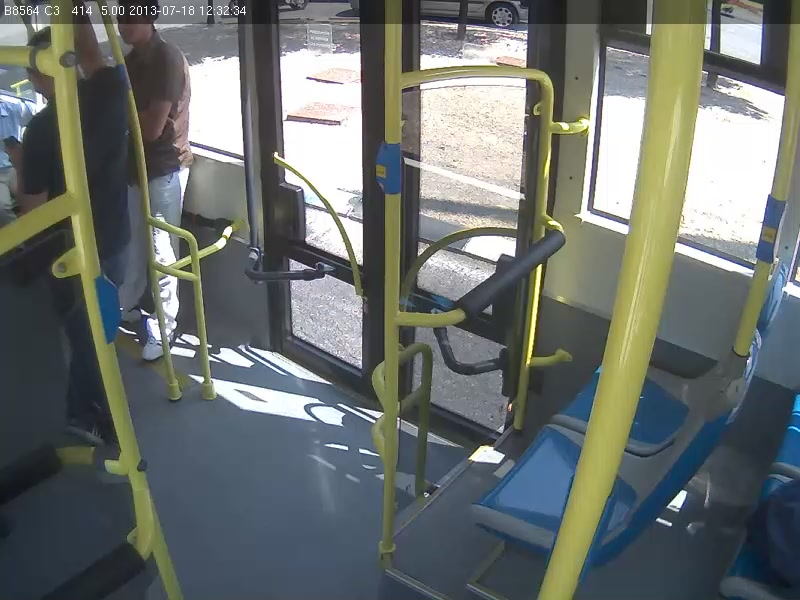Head: (17, 26, 62, 99), (113, 1, 171, 51)
